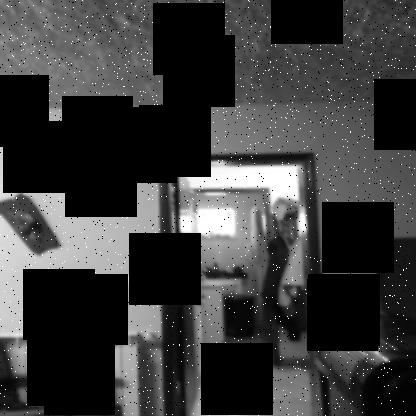Porte: (159, 152, 330, 415)
